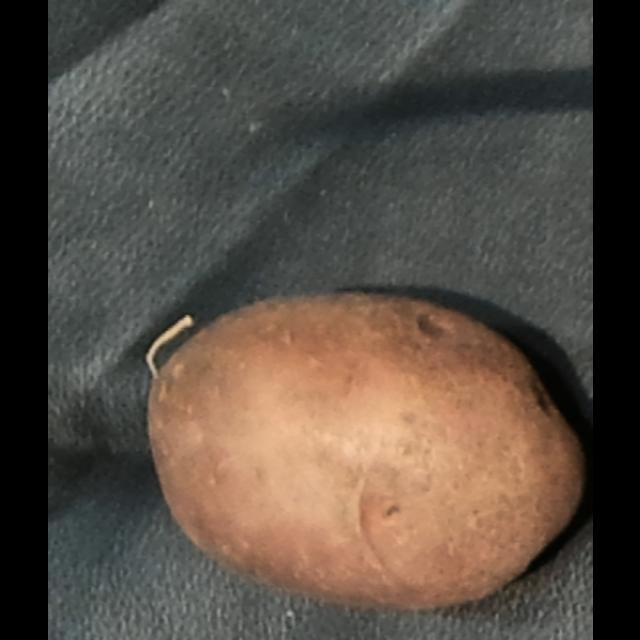Sprouted potato: (120, 274, 592, 616)
